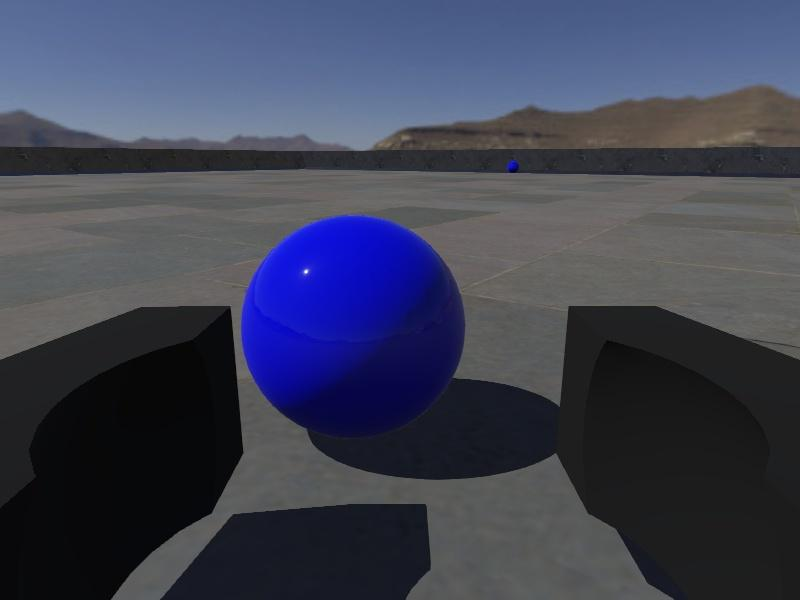blue ball: (242, 214, 465, 438), (507, 159, 520, 172)
